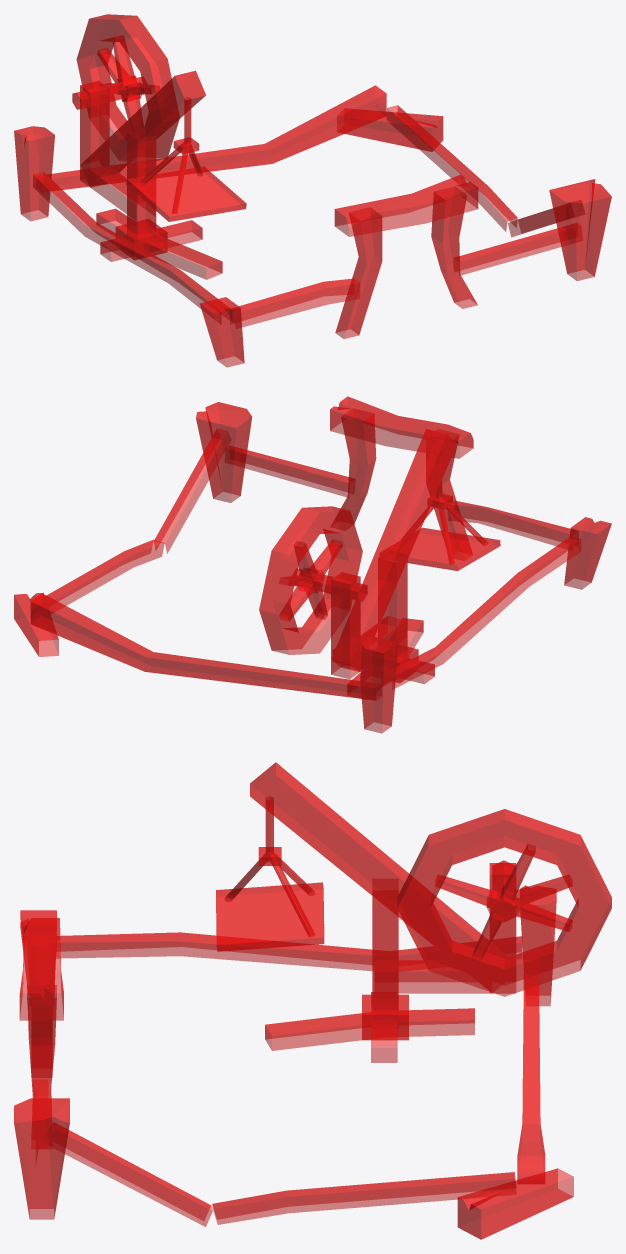
The model's file is Stone_storage_impossible_to_place.fbx.
3 renders of one model, top to bottom at view 1: azimuth 30°, elevation 25°; view 2: azimuth 150°, elevation 25°; view 3: azimuth 270°, elevation 25°, orthographic. The views are drawn at different scales.
Visible parts, largest first — view 1: Cube.010; view 2: Cube.010; view 3: Cube.010.
Boxes of the visible parts, x1,y1,x2,y2 form: Cube.010: [14, 14, 611, 367]; Cube.010: [14, 396, 611, 733]; Cube.010: [14, 762, 611, 1239].
Bounding box in the file's own units: 6 × 6 × 3.
